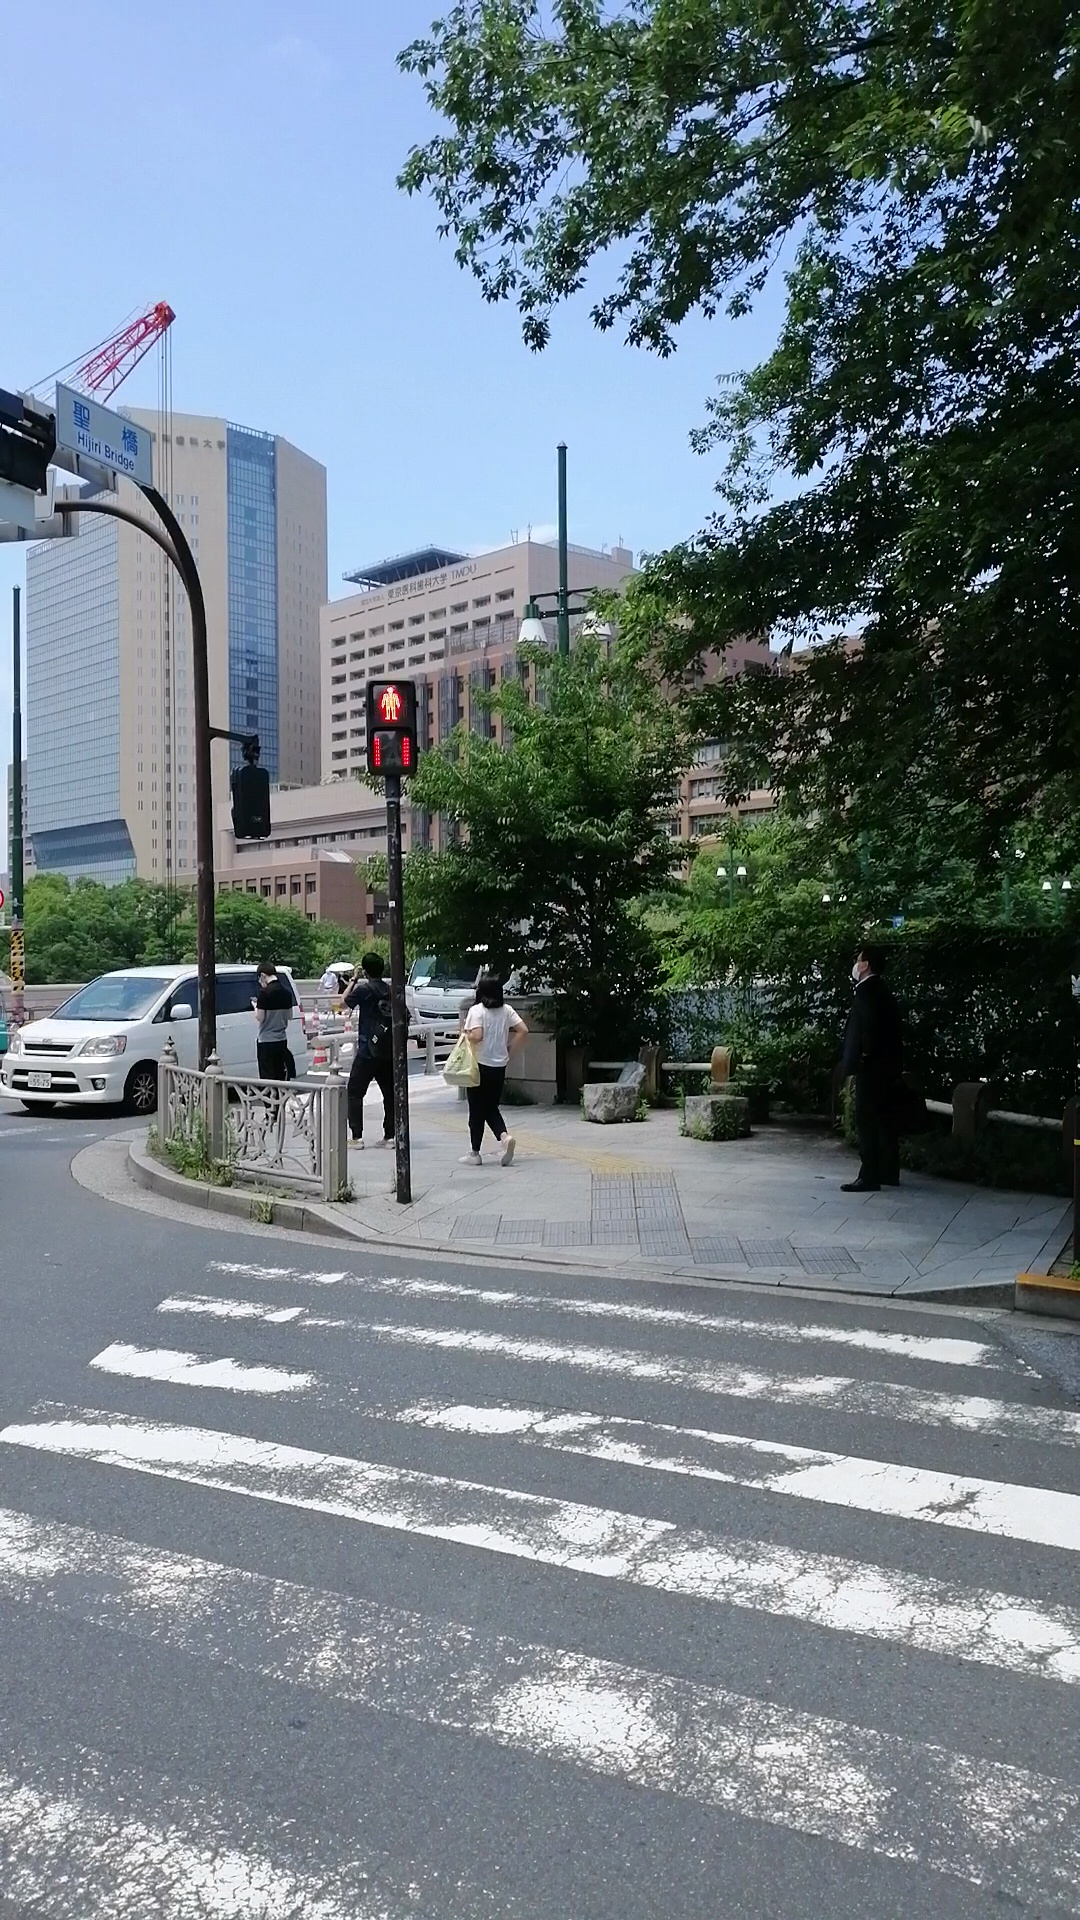red: (368, 679, 415, 774)
